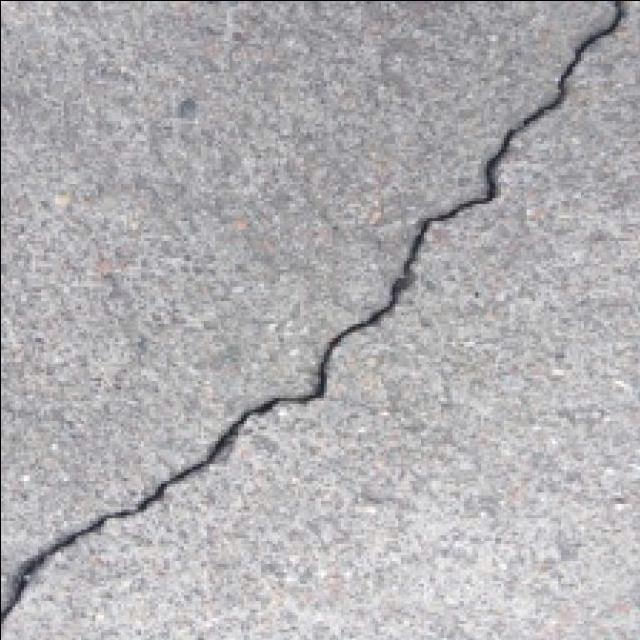SurfaceCrack: (0, 4, 636, 638)
